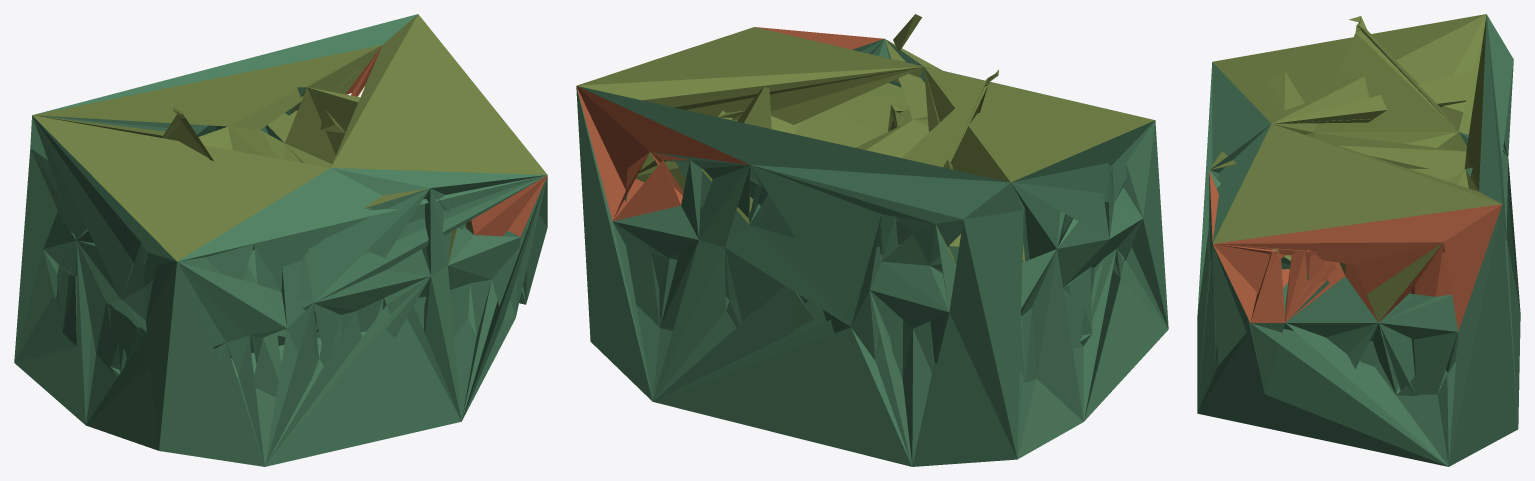
Rendered from grocery_crate.glb.
3 renders of one model, left to right at view 1: azimuth 30°, elevation 25°; view 2: azimuth 150°, elevation 25°; view 3: azimuth 270°, elevation 25°, orthographic. The views are drawn at different scales.
Visible parts, largest first — view 1: grocery_crate; view 2: grocery_crate; view 3: grocery_crate.
Boxes of the visible parts, x1=… form: grocery_crate: x1=14, y1=14, x2=547, y2=466; grocery_crate: x1=576, y1=14, x2=1168, y2=466; grocery_crate: x1=1197, y1=14, x2=1520, y2=466.
Bounding box in the file's own units: 0.65 × 0.45 × 0.44.
